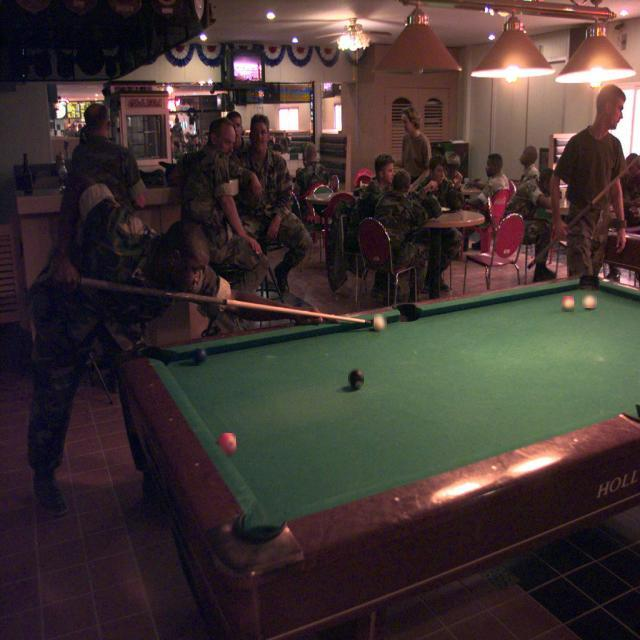Ball: (219, 434, 236, 462), (348, 368, 364, 390), (190, 346, 207, 366), (582, 292, 597, 308), (374, 314, 387, 332), (562, 296, 574, 312)
Billiard table: (120, 274, 640, 557)
